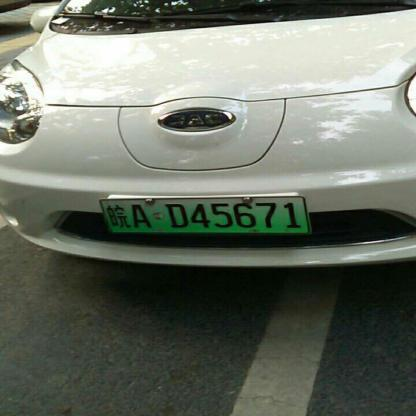lp: (100, 197, 310, 234)
